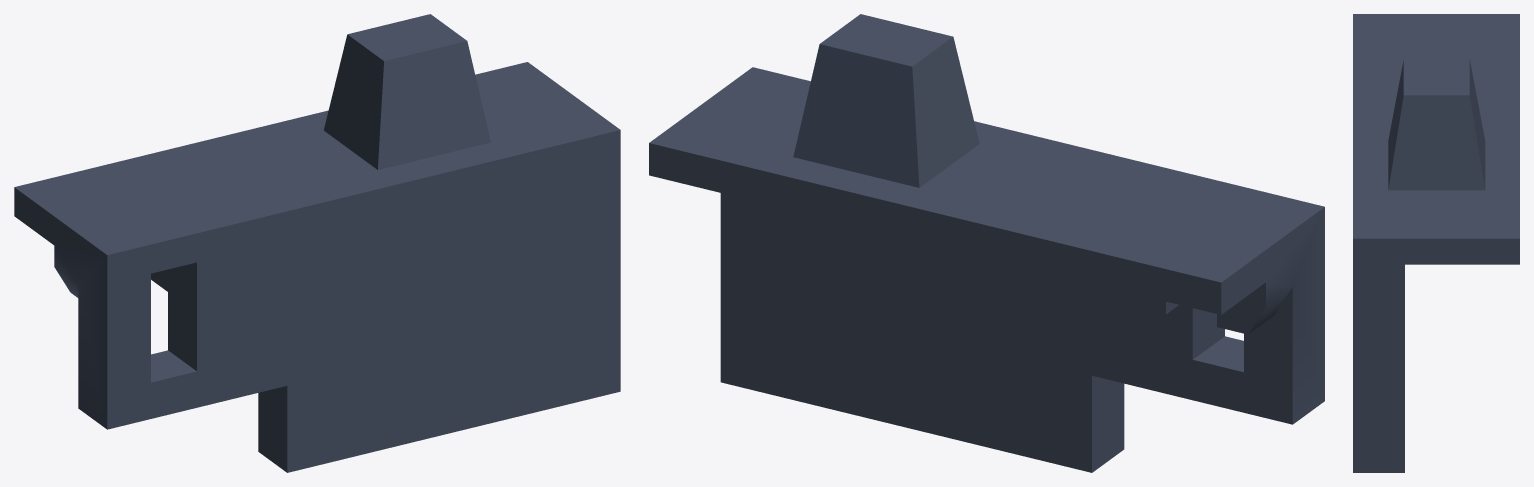
The model's file is switch.glb.
The picture shows the model from 3 angles, left to right: view 1: azimuth 30°, elevation 25°; view 2: azimuth 150°, elevation 25°; view 3: azimuth 270°, elevation 25°; orthographic projection. The views are drawn at different scales.
Parts seen in each view (by area): view 1: switch; view 2: switch; view 3: switch.
Boxes of the visible parts, box(x1,y1,x2,y2) form: switch: box(14, 14, 620, 472); switch: box(649, 14, 1324, 472); switch: box(1353, 14, 1519, 472).
Size of the model in its own units: 0.0185 by 0.0124 by 0.0058.
